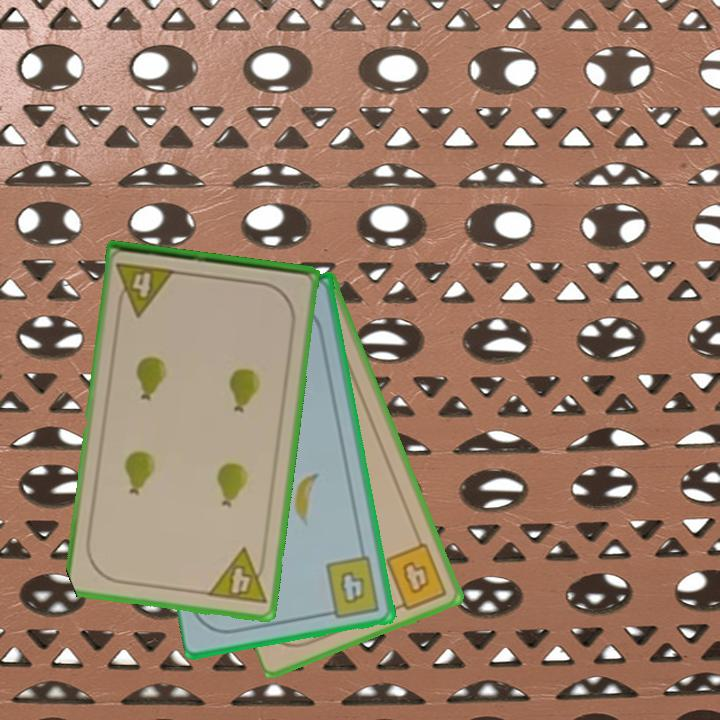4b: (382, 539, 450, 614), (321, 552, 383, 621)
4p: (204, 545, 270, 608), (113, 259, 178, 319)
